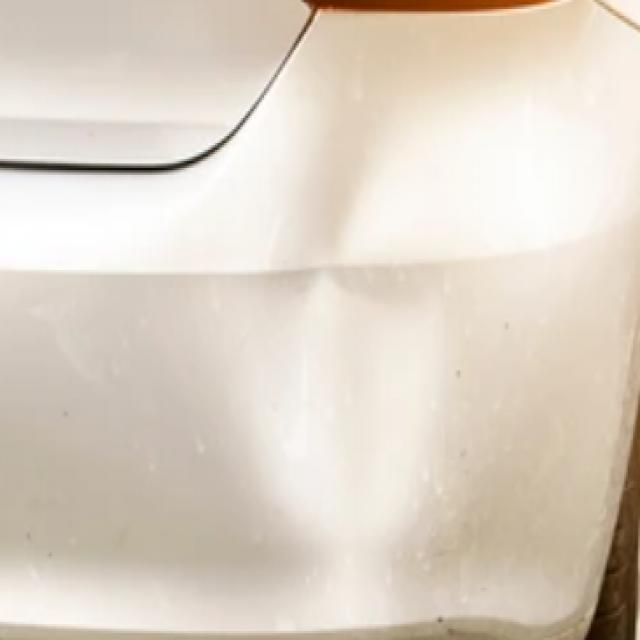dents: (273, 178, 434, 518)
